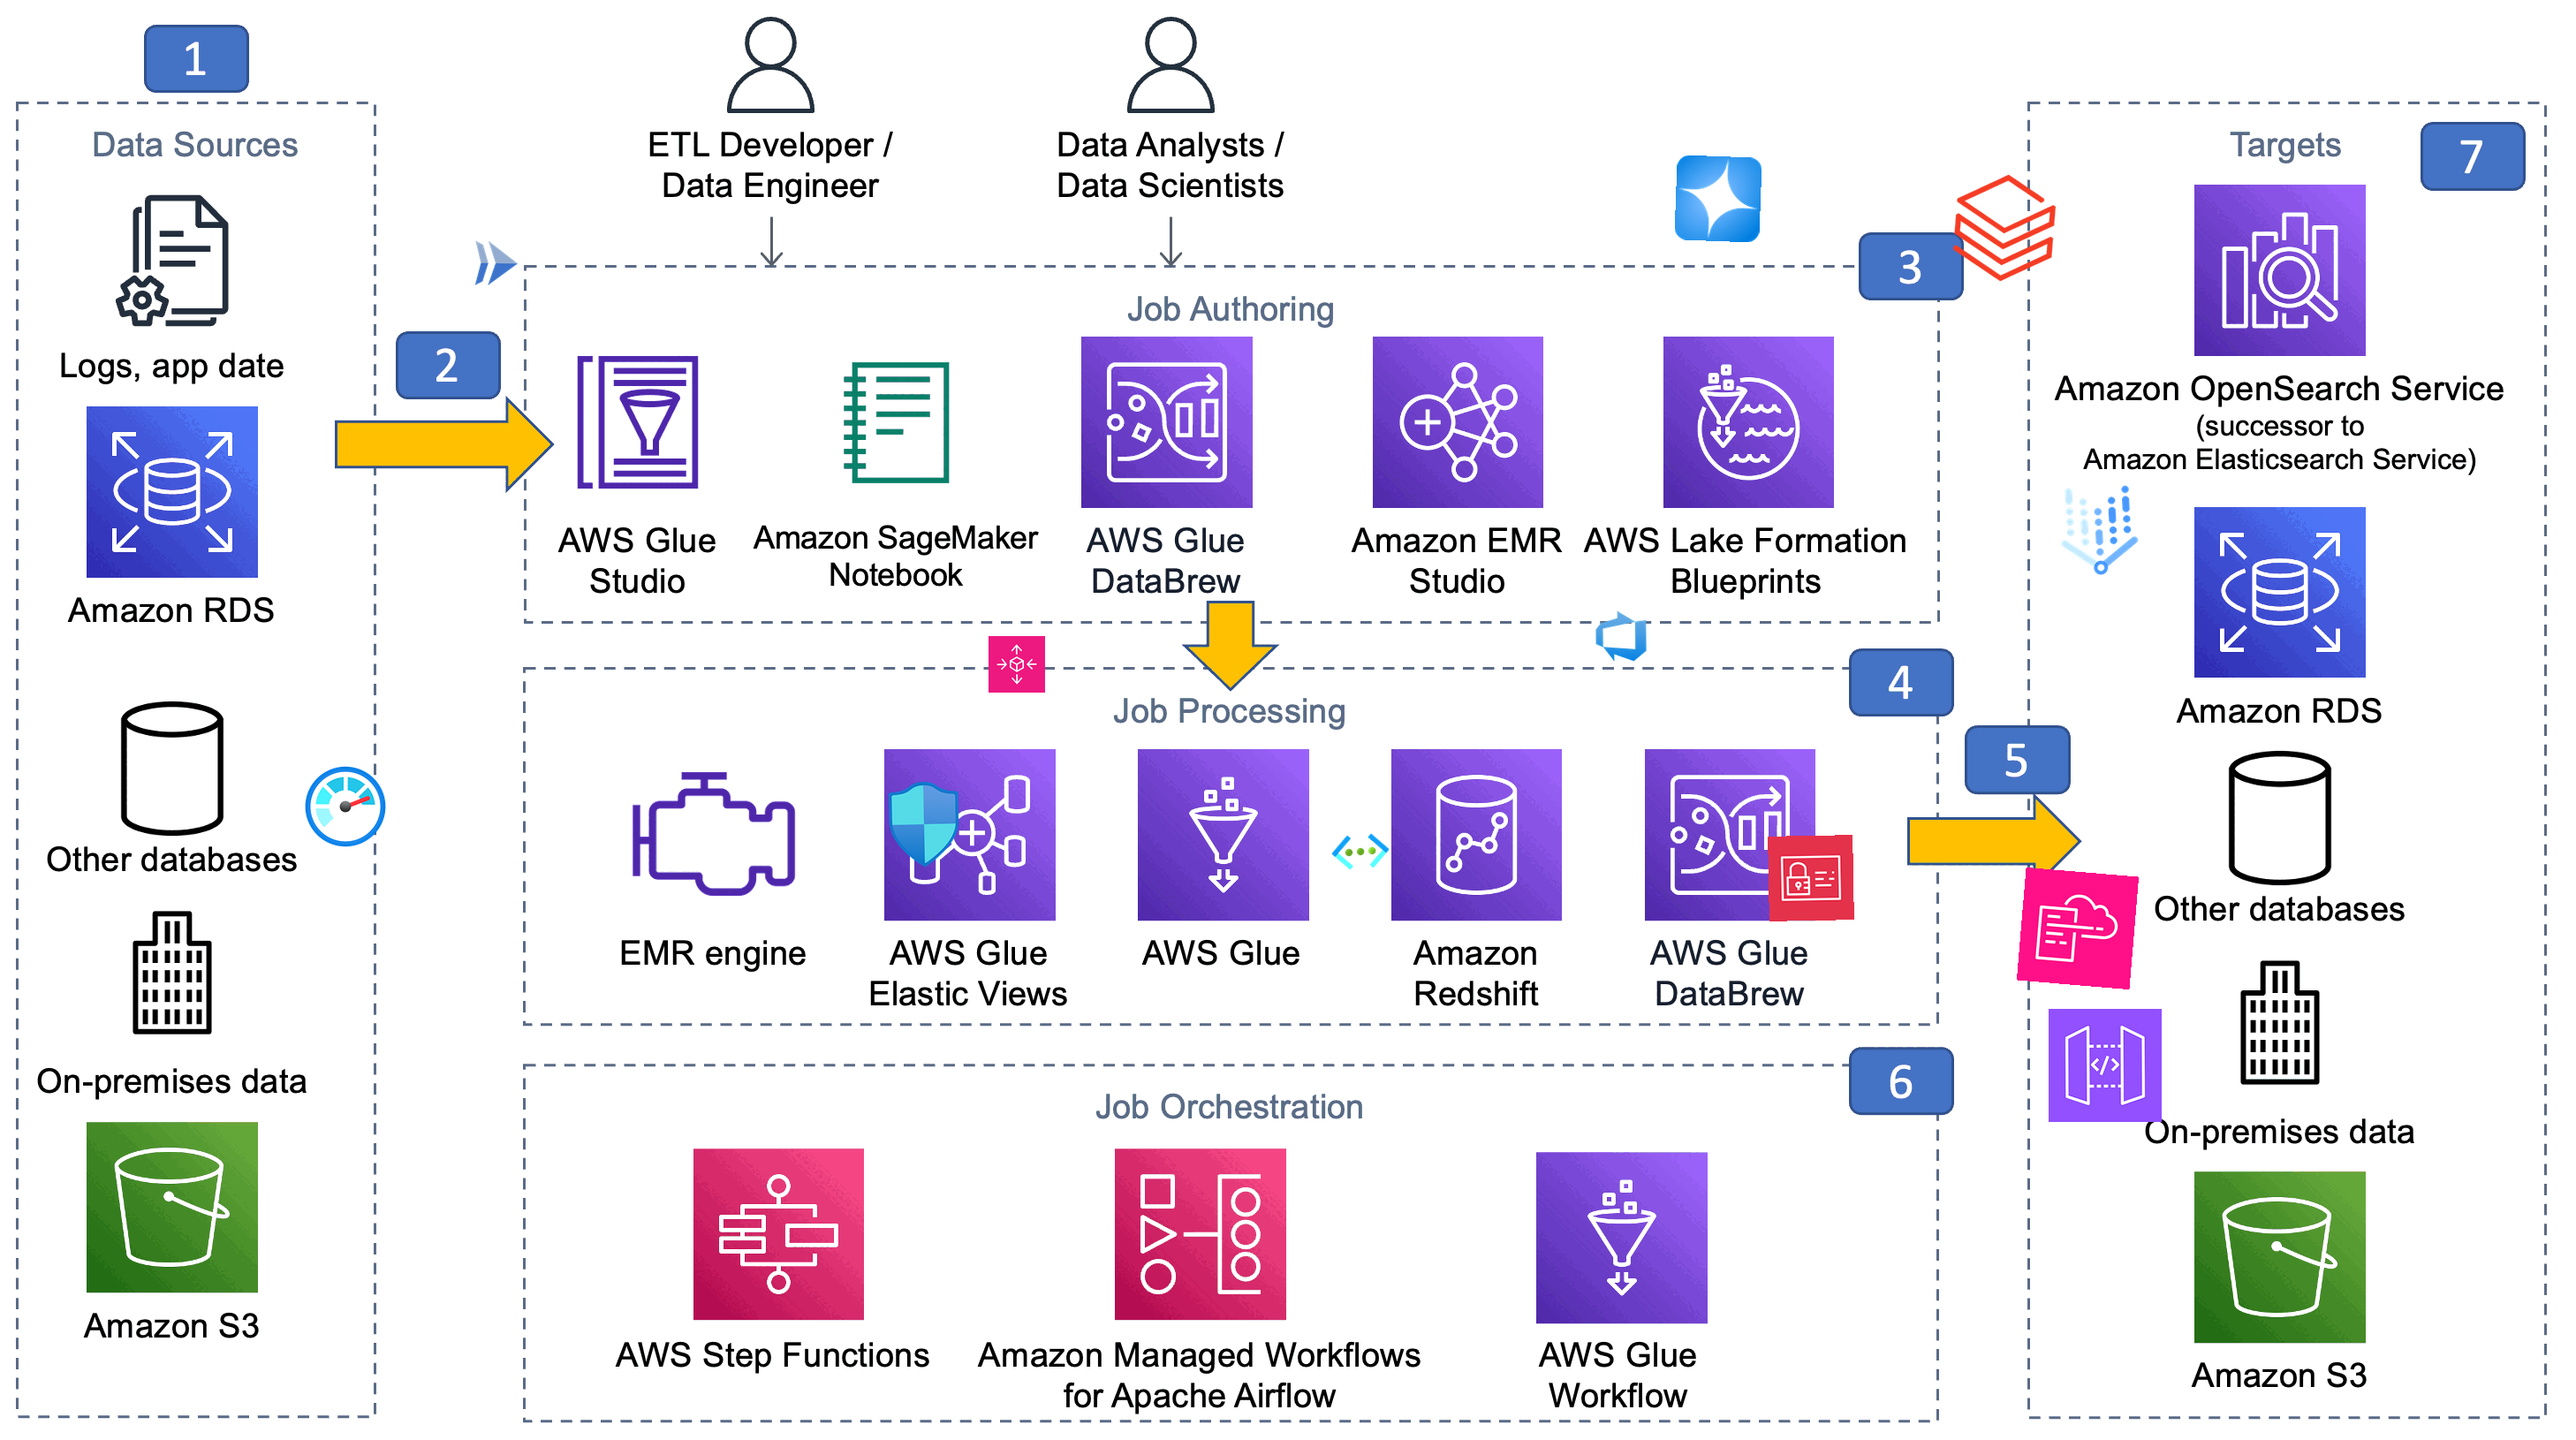aws_amazon_api_gateway: (2047, 1008, 2162, 1123)
aws_auto_scaling: (987, 635, 1046, 693)
aws_cloudformation: (2015, 867, 2139, 991)
aws_identity_and_access_management: (1767, 835, 1854, 922)
azure_databricks: (1943, 166, 2065, 288)
azure_devops: (1592, 607, 1651, 665)
azure_monitor: (303, 762, 389, 849)
azure_network_security_groups: (879, 780, 968, 869)
azure_openai: (1674, 154, 1762, 242)
azure_virtual_networks: (1329, 821, 1391, 883)
gcp_cloud_run: (467, 234, 525, 292)
gcp_vertex_ai: (2038, 471, 2158, 591)
